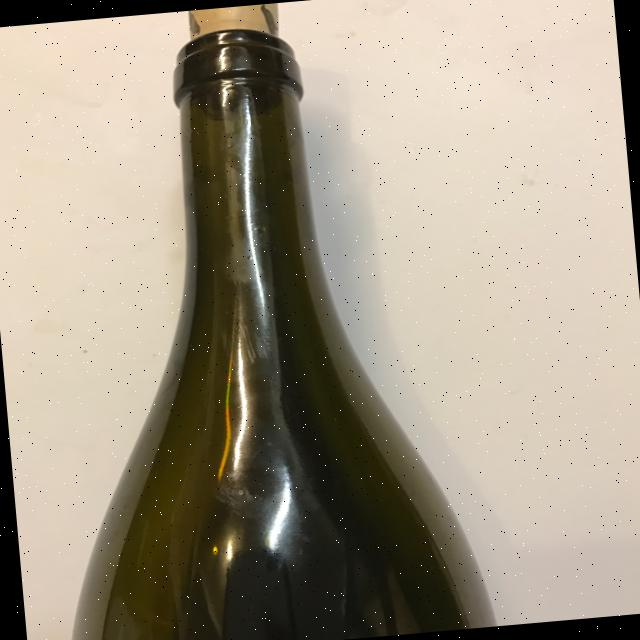glass: (13, 0, 499, 640)
